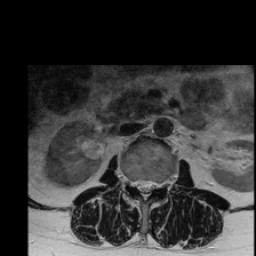CCS_normal: (142, 171, 149, 206)
LFS_normal: (156, 172, 163, 196)
LLS_normal: (149, 173, 156, 200)
RFS_normal: (127, 171, 134, 194)
RLS_normal: (134, 172, 142, 198)
